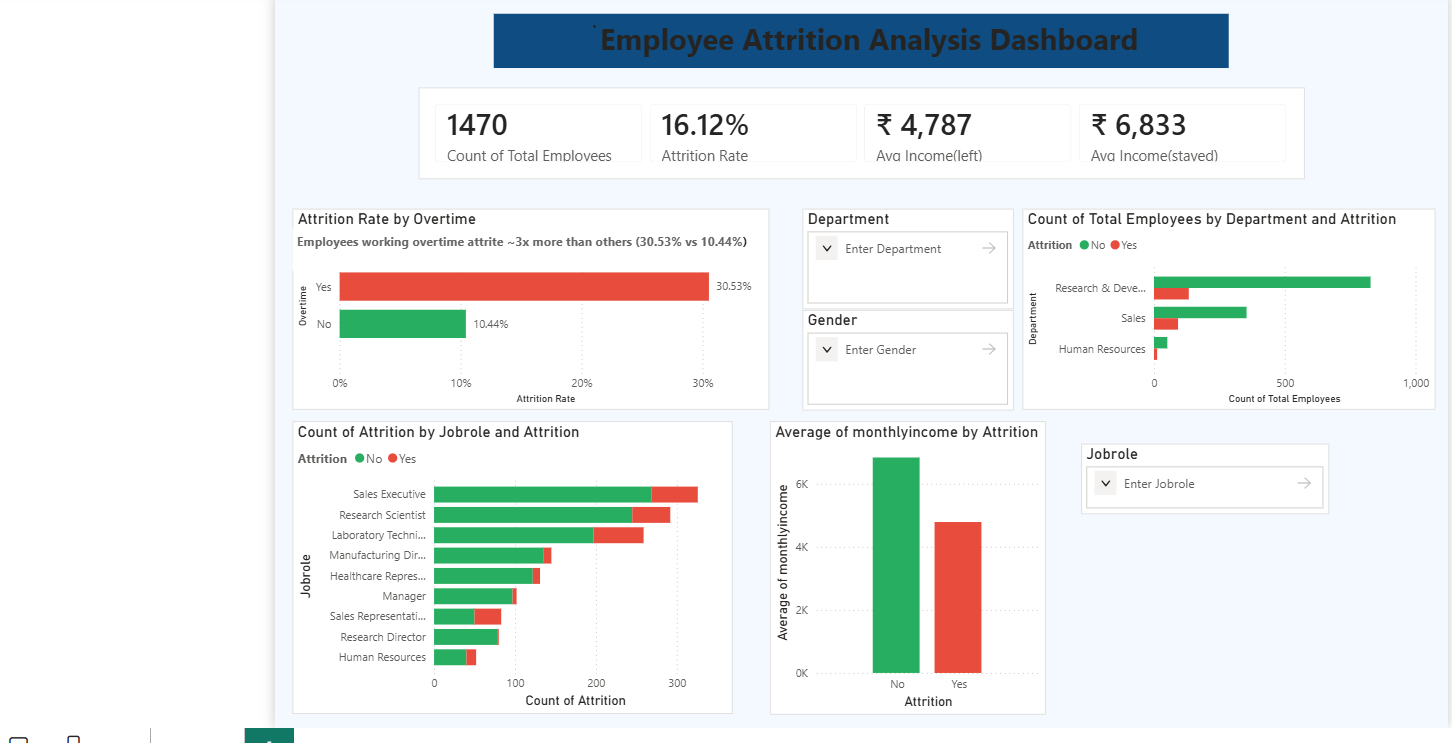

What the dashboard file says about the page in this screenshot:
{"tool":"powerbi","page":{"name":"Page 1","canvas":[1280,800],"ordinal":0},"visuals":[{"type":"clusteredBarChart","fields":{"Category":["employee_attrition_export.department"],"Y":["CountNonNull(employee_attrition_export.employeenumber)"],"Series":["employee_attrition_export.attrition"]},"box":[815.1,233.3,450.1,219.6],"z":0},{"type":"clusteredBarChart","fields":{"Y":["employee_attrition_export.attrition rate"],"Category":["employee_attrition_export.overtime"]},"box":[19.2,233.3,520.1,219.6],"z":1000},{"type":"barChart","fields":{"Category":["employee_attrition_export.jobrole"],"Y":["CountNonNull(employee_attrition_export.attrition)"],"Series":["employee_attrition_export.attrition"]},"box":[19.4,464.4,479.6,319.3],"z":2000},{"type":"clusteredColumnChart","fields":{"Category":["employee_attrition_export.attrition"],"Y":["Avg(employee_attrition_export.monthlyincome)"]},"box":[539.3,465.2,300.5,319.7],"z":3000},{"type":"textSlicer","fields":{"Values":["employee_attrition_export.department"]},"box":[575,233.3,230.5,109.8],"z":4000},{"type":"textSlicer","fields":{"Values":["employee_attrition_export.gender"]},"box":[575,343.1,230.5,109.8],"z":5000},{"type":"textSlicer","fields":{"Values":["employee_attrition_export.jobrole"]},"box":[879.6,489.9,270.3,76.8],"z":6000},{"type":"textbox","box":[238.8,20.6,801.4,59],"z":7000},{"type":"cardVisual","fields":{"Data":["CountNonNull(employee_attrition_export.employeenumber)","employee_attrition_export.attrition rate","employee_attrition_export.Avg Income(left)","employee_attrition_export.Avg Income(stayed)"]},"box":[156.4,101.5,966,100.2],"z":8000},{"type":"textbox","box":[19.2,255.2,502.2,45.3],"z":9000}]}

Visuals, with their boxes on the page's 1280x800 design canvas (x1, y1, x2, y2). These are canvas units, not pixel positions in the 1452x743 screenshot, which may show the page scaled, cropped or inside an application window:
clusteredBarChart - employee_attrition_export.department x CountNonNull(employee_attrition_export.employeenumber): (x1=815, y1=233, x2=1265, y2=453)
clusteredBarChart - employee_attrition_export.attrition rate x employee_attrition_export.overtime: (x1=19, y1=233, x2=539, y2=453)
barChart - employee_attrition_export.jobrole x CountNonNull(employee_attrition_export.attrition): (x1=19, y1=464, x2=499, y2=784)
clusteredColumnChart - employee_attrition_export.attrition x Avg(employee_attrition_export.monthlyincome): (x1=539, y1=465, x2=840, y2=785)
textSlicer - employee_attrition_export.department: (x1=575, y1=233, x2=806, y2=343)
textSlicer - employee_attrition_export.gender: (x1=575, y1=343, x2=806, y2=453)
textSlicer - employee_attrition_export.jobrole: (x1=880, y1=490, x2=1150, y2=567)
textbox: (x1=239, y1=21, x2=1040, y2=80)
cardVisual - CountNonNull(employee_attrition_export.employeenumber) x employee_attrition_export.attrition rate: (x1=156, y1=102, x2=1122, y2=202)
textbox: (x1=19, y1=255, x2=521, y2=300)
